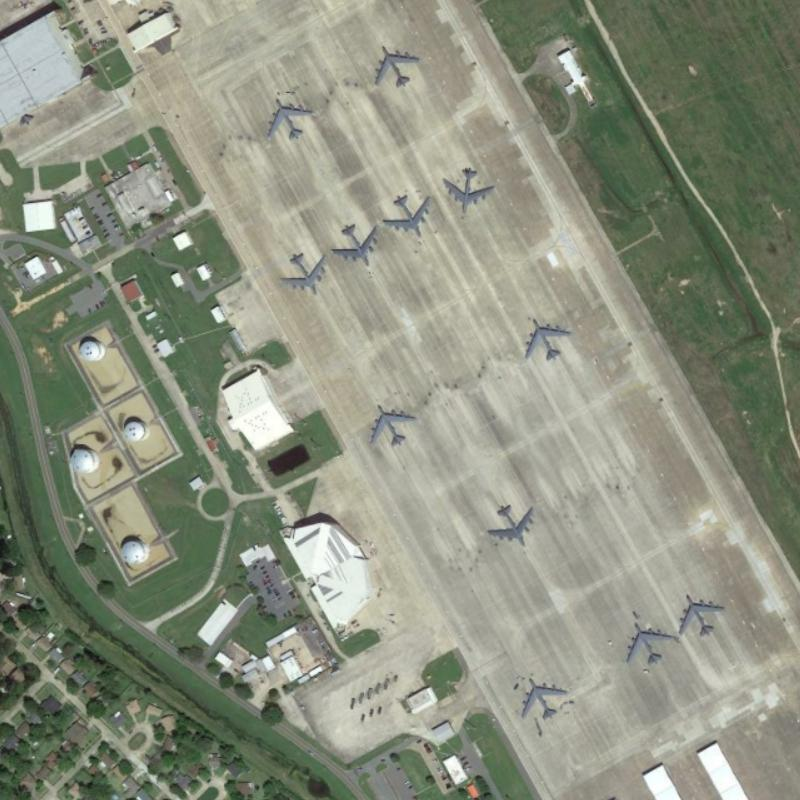A8: (438, 164, 496, 216), (521, 314, 574, 364), (328, 221, 381, 270), (380, 189, 433, 237), (365, 401, 418, 449), (622, 619, 675, 667), (276, 249, 329, 296), (369, 42, 421, 89), (483, 501, 536, 547), (265, 94, 314, 143), (519, 674, 568, 721), (677, 590, 726, 636)
